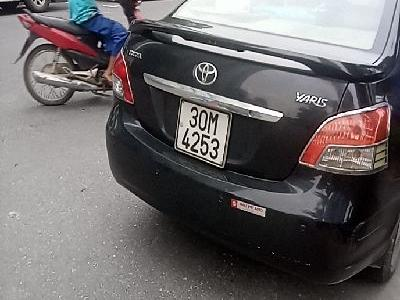car: (174, 96, 233, 174)
